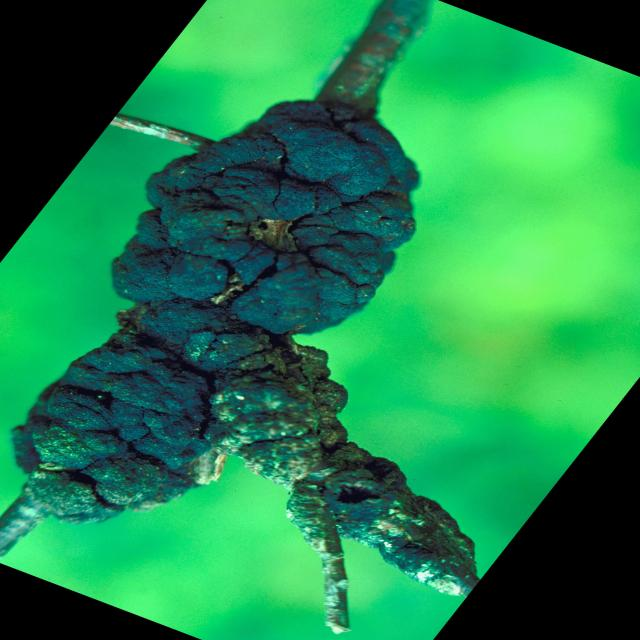Black_knot: (2, 94, 481, 634)
